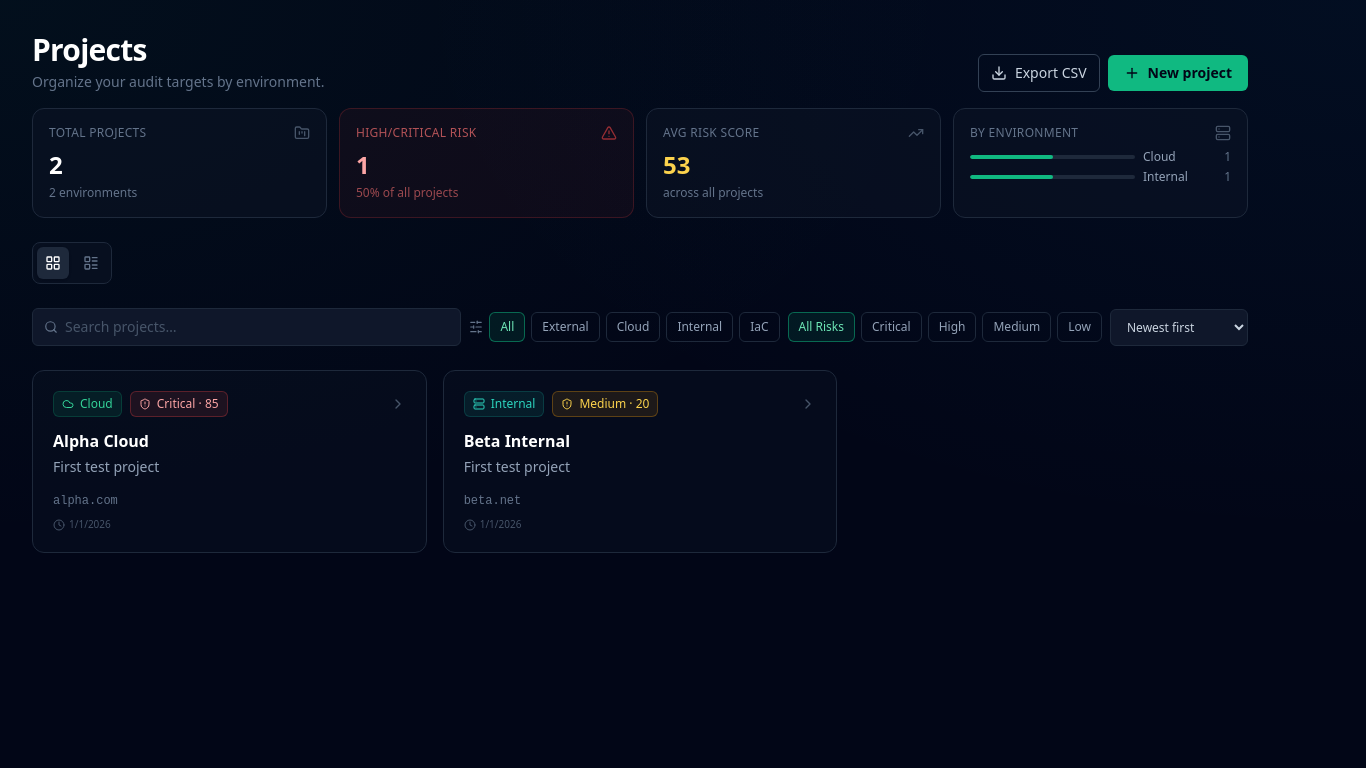
Projects — search and filter › filters by environment (Cloud)
Expected: the heading "Alpha Cloud" is shown, left=53, top=430, right=149, bottom=452
Click the button "Cloud" at (633,327), box left=606, top=312, right=660, bottom=342
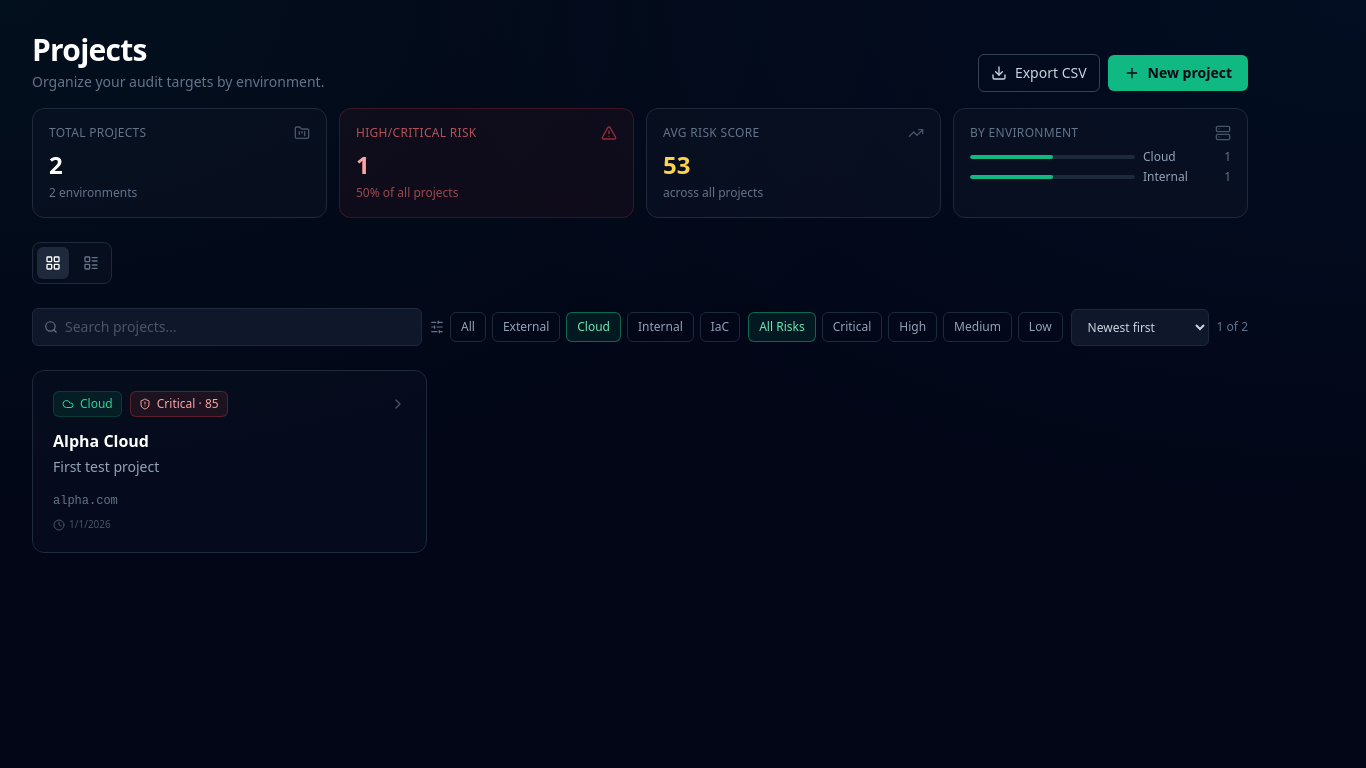
Expected: the heading "Alpha Cloud" is shown, left=53, top=430, right=149, bottom=452
Expected: the button "Beta Internal" is gone
